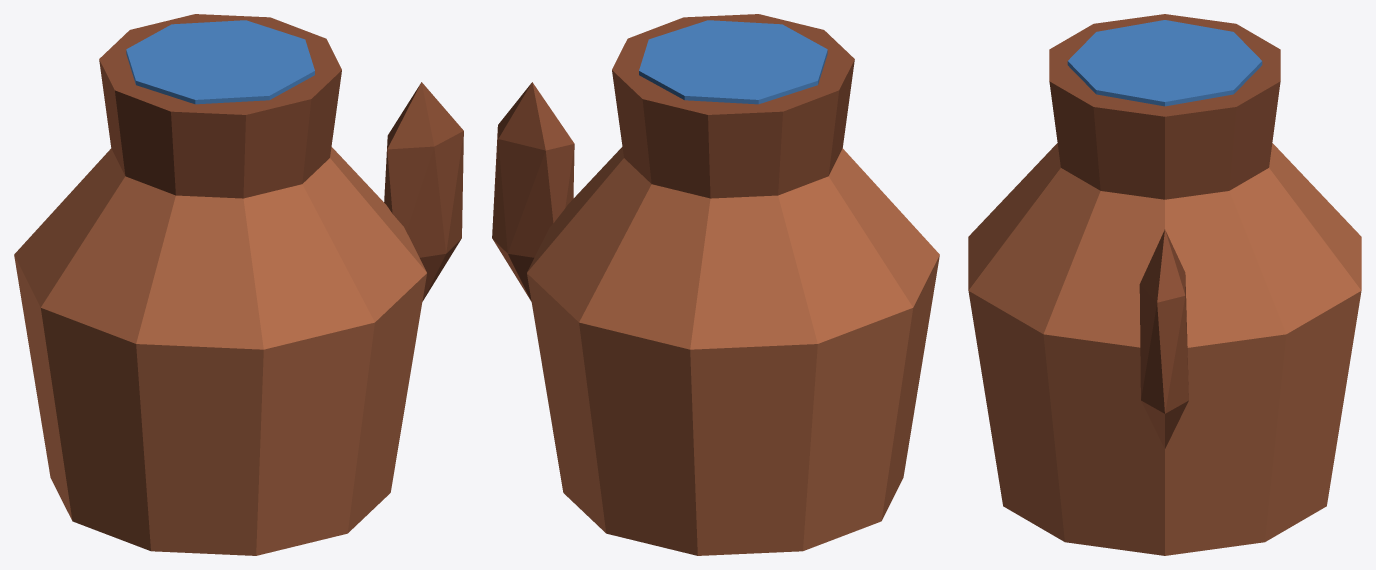
The model's file is drop_jug.glb.
3 renders of one model, left to right at view 1: azimuth 30°, elevation 25°; view 2: azimuth 150°, elevation 25°; view 3: azimuth 270°, elevation 25°, orthographic.
Visible parts, largest first — view 1: drop_jug; view 2: drop_jug; view 3: drop_jug.
Part boxes in pixels (x1=…): drop_jug: x1=14, y1=14, x2=463, y2=555; drop_jug: x1=492, y1=14, x2=939, y2=555; drop_jug: x1=968, y1=14, x2=1361, y2=555.
Size of the model in its own units: 0.1991 by 0.192 by 0.1617.
